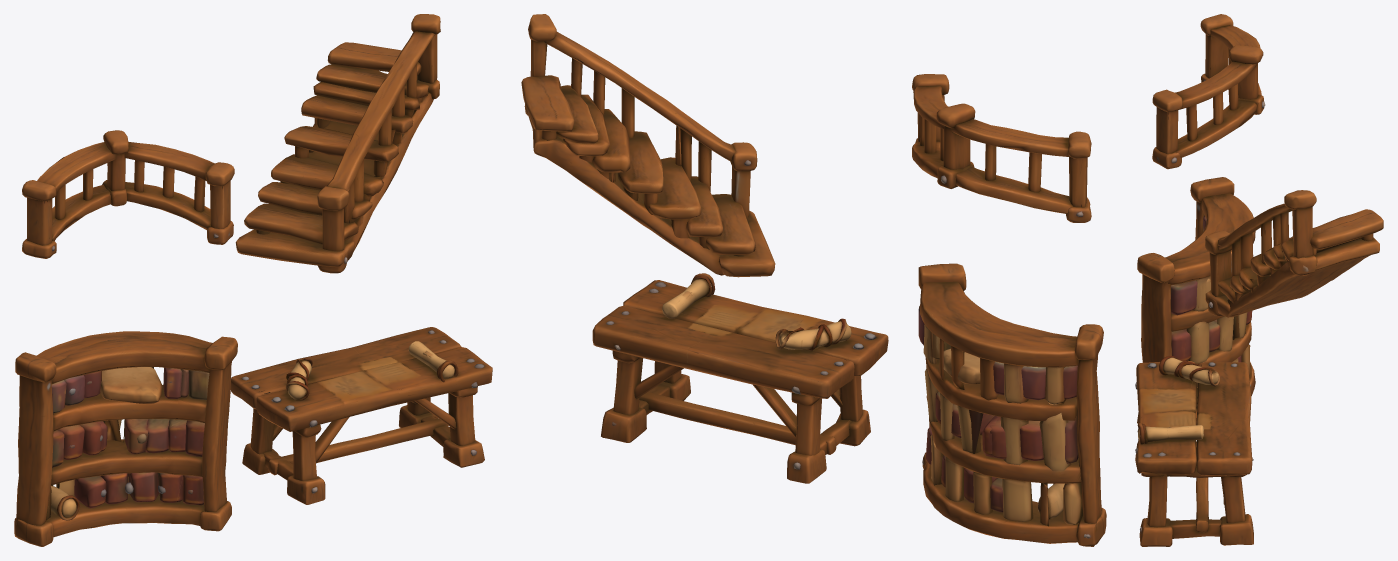
File: coleccion_torre_modulos.glb
3 views of the same model, side by side, from view 1: azimuth 30°, elevation 25°; view 2: azimuth 150°, elevation 25°; view 3: azimuth 270°, elevation 25° (orthographic). The views are drawn at different scales.
Parts seen in each view (by area): view 1: geometry_0; view 2: geometry_0; view 3: geometry_0.
Boxes of the visible parts, x1,y1,x2,y2 form: geometry_0: (14,14,492,546); geometry_0: (521,14,1106,546); geometry_0: (1135,14,1383,546).
Size of the model in its own units: 1 by 0.7997 by 0.4852.
Materials: 1 (1 with a texture image).
